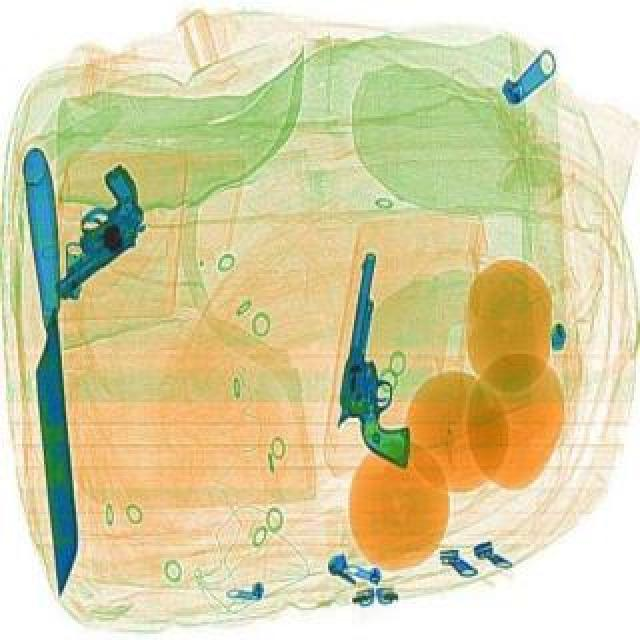gun: (330, 246, 442, 464), (12, 158, 176, 300)
knife: (18, 144, 82, 592)
